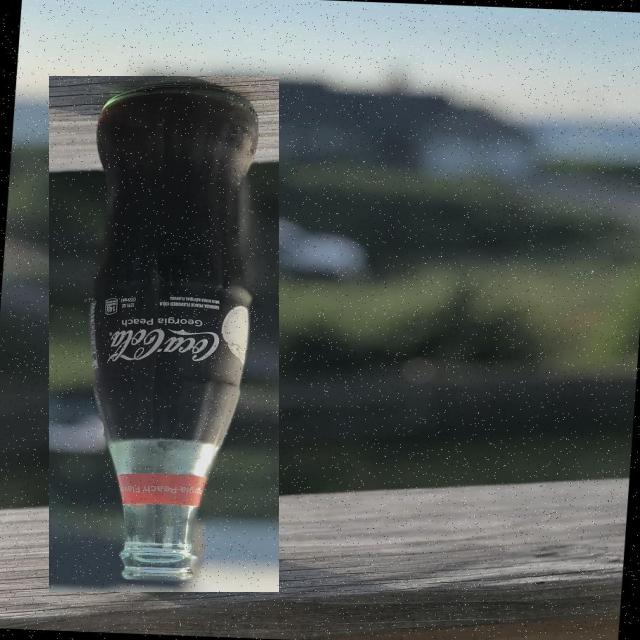coca-cola: (49, 76, 279, 592)
